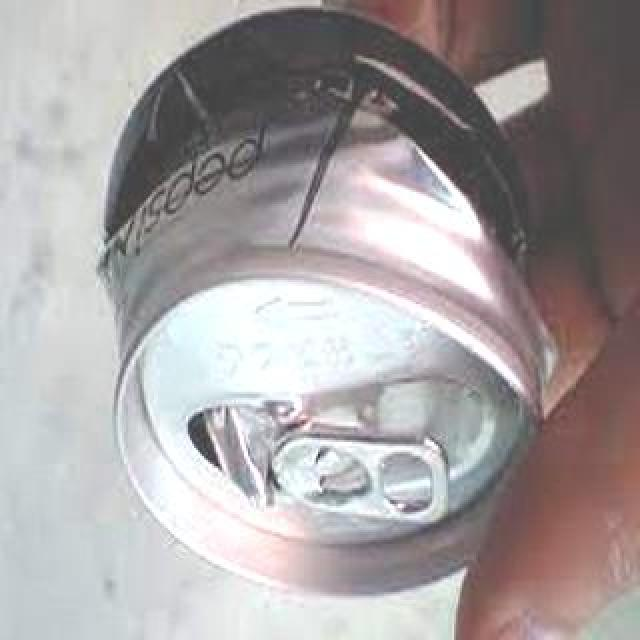Can: (102, 8, 548, 602)
